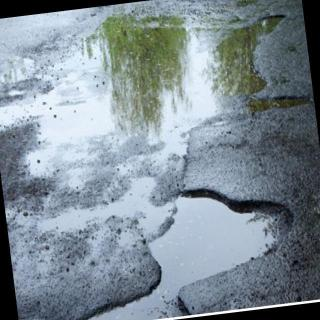pothole: (88, 190, 292, 320)
